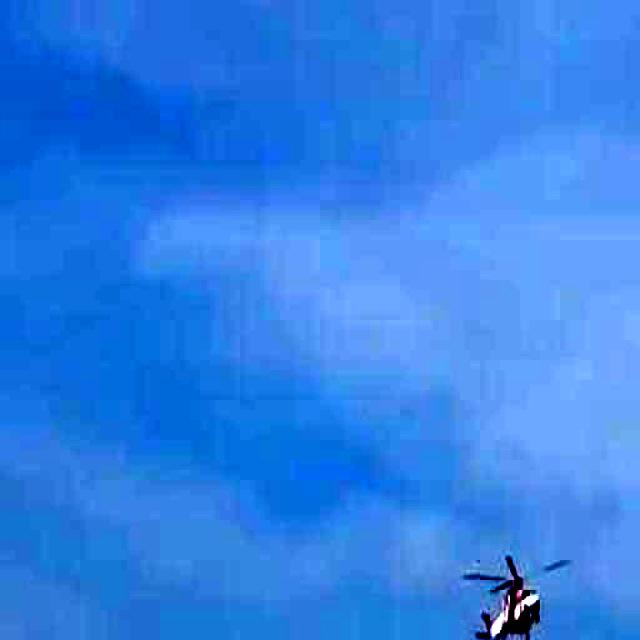drone: (456, 545, 572, 640)
